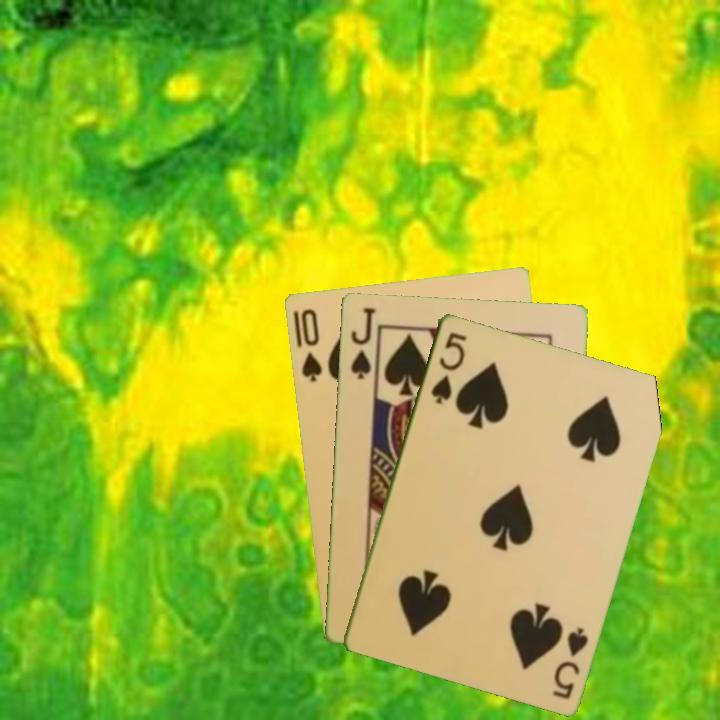10s: (297, 304, 325, 384)
5s: (548, 623, 591, 701), (427, 328, 469, 406)
Js: (347, 303, 378, 382)
